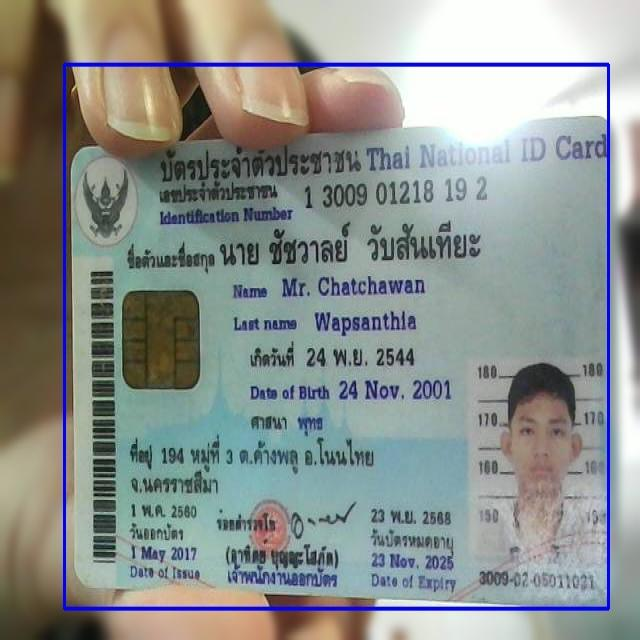Address_th: (124, 430, 387, 506)
Date_of_Birth: (336, 371, 454, 406)
Date_of_Expiry: (369, 546, 458, 574)
Date_of_Issue: (125, 540, 201, 565)
First_Name: (277, 267, 428, 302)
ID_Number: (302, 174, 490, 212)
Image: (469, 359, 600, 565)
Last_Name: (310, 304, 420, 339)
Thai_Name: (212, 218, 495, 272)
